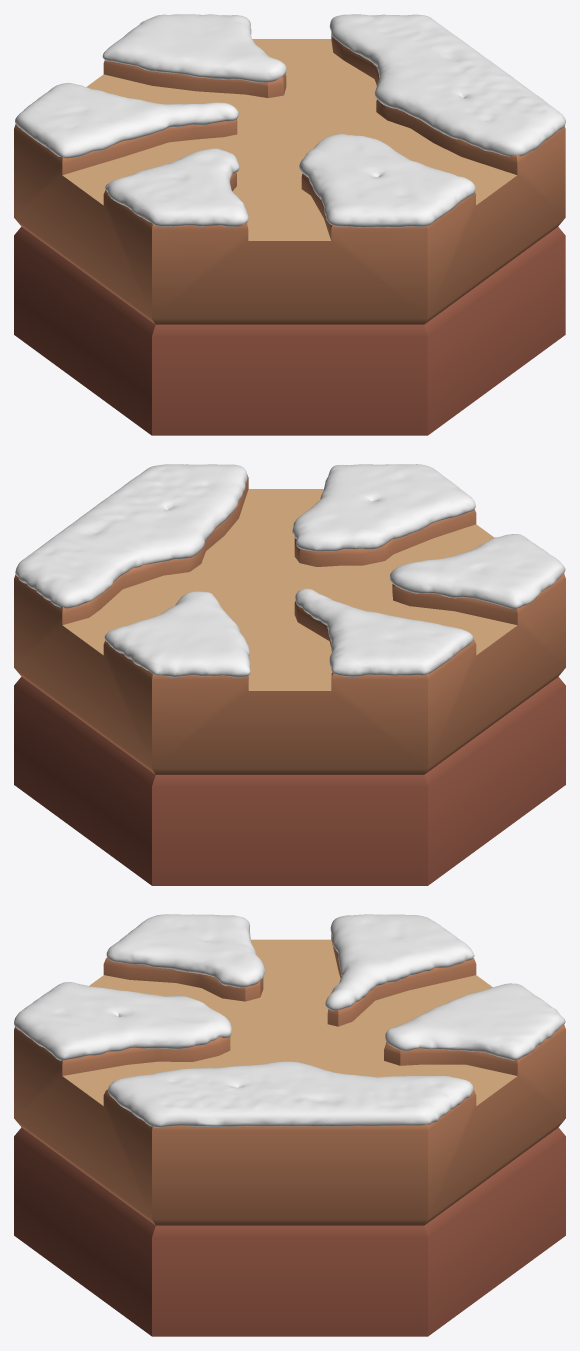
The model's file is hex_rock_roadL_detail.fbx.
3 renders of one model, top to bottom at view 1: azimuth 30°, elevation 25°; view 2: azimuth 150°, elevation 25°; view 3: azimuth 270°, elevation 25°, orthographic.
Visible parts, largest first — view 1: hex_rock_roadL_detail.001, hex_rock_roadL_detail.002, SnowBall.001, hex_rock_roadL_detail; view 2: hex_rock_roadL_detail.001, hex_rock_roadL_detail.002, SnowBall.001, hex_rock_roadL_detail; view 3: hex_rock_roadL_detail.002, hex_rock_roadL_detail.001, SnowBall.001, hex_rock_roadL_detail.
Part boxes in pixels (left/top/right/bottom): hex_rock_roadL_detail.001: left=14, top=227, right=565, bottom=435; hex_rock_roadL_detail.002: left=14, top=33, right=565, bottom=324; SnowBall.001: left=15, top=14, right=565, bottom=227; hex_rock_roadL_detail: left=62, top=39, right=516, bottom=240; hex_rock_roadL_detail.001: left=14, top=677, right=565, bottom=885; hex_rock_roadL_detail.002: left=14, top=475, right=565, bottom=774; SnowBall.001: left=15, top=464, right=565, bottom=677; hex_rock_roadL_detail: left=62, top=489, right=516, bottom=690; hex_rock_roadL_detail.002: left=14, top=933, right=565, bottom=1225; hex_rock_roadL_detail.001: left=14, top=1127, right=565, bottom=1336; SnowBall.001: left=14, top=914, right=565, bottom=1127; hex_rock_roadL_detail: left=63, top=939, right=517, bottom=1105.
Bounding box in the file's own units: 203 × 104 × 231.
